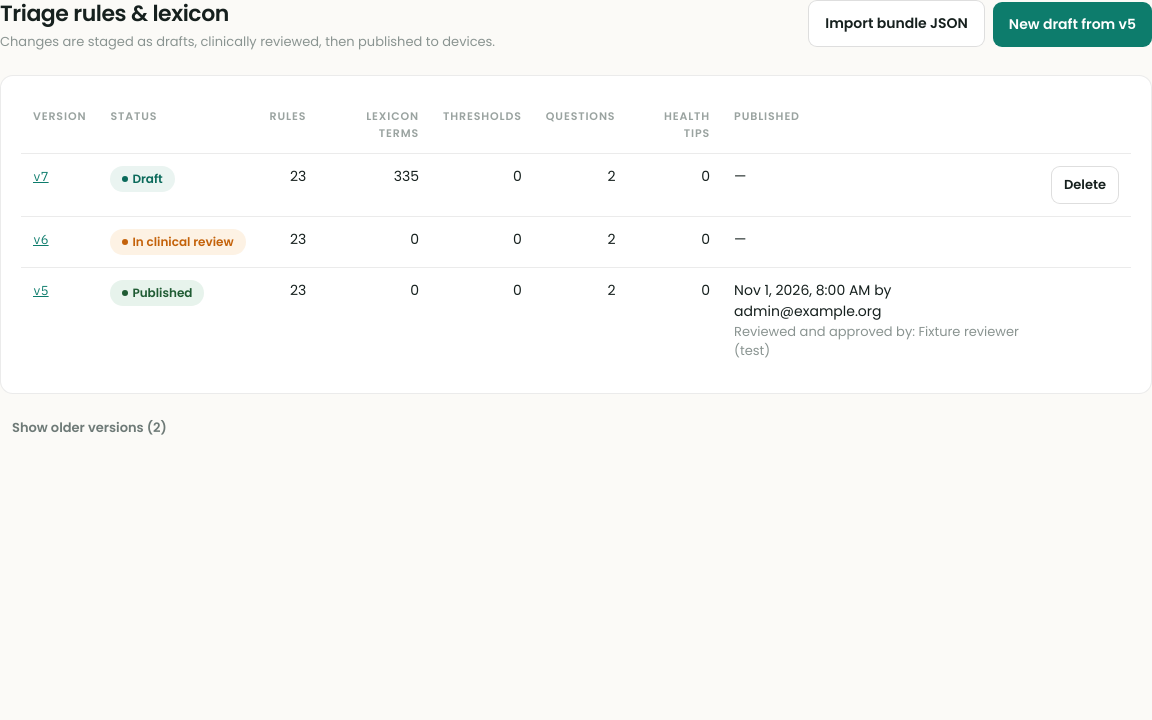
Test case: Triage rules & lexicon: the version list › shows the server's refusal and deletes nothing
The width and height of the screenshot is (1152, 720).
Click the button "Delete" at (1085, 185), box [1051, 166, 1119, 204]
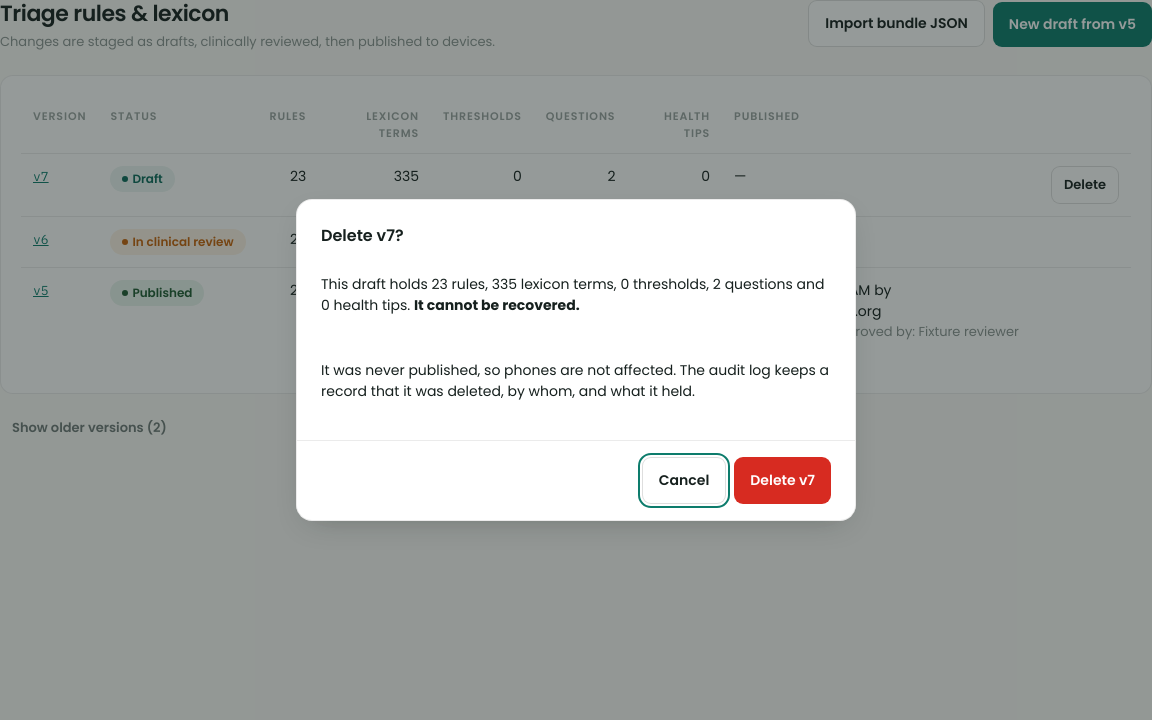
Click the button "Delete v7" at (783, 480), box [734, 457, 831, 504]
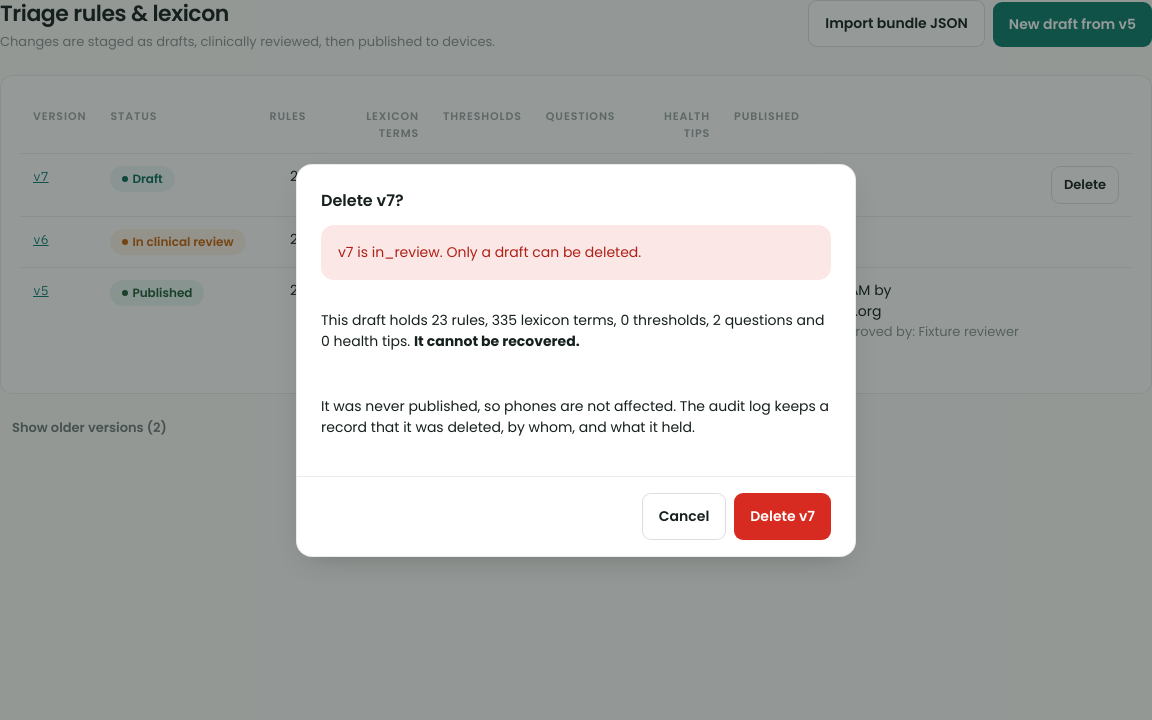
Expected: the link "v7" is shown, [33, 168, 49, 185]
Expected: the text "v7 is in_review. Only a draft can be deleted." is shown, [338, 242, 641, 262]
